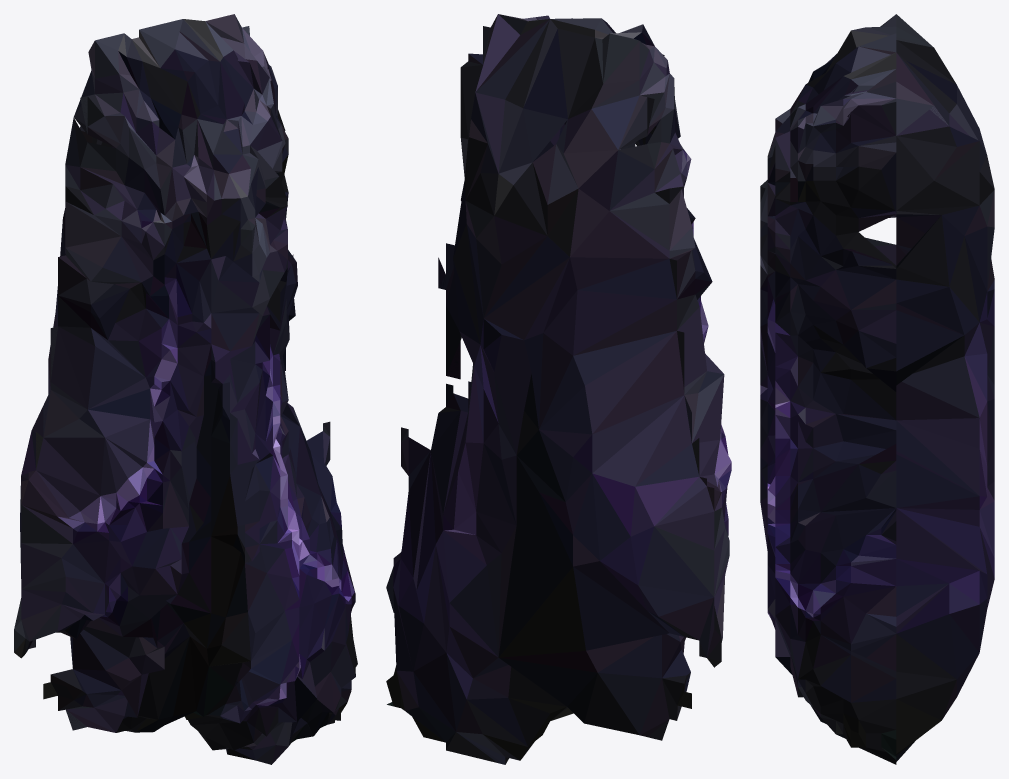
Rendered from B11_3_voidwoven_robe_skirt.obj.
The picture shows the model from 3 angles, left to right: view 1: azimuth 30°, elevation 25°; view 2: azimuth 150°, elevation 25°; view 3: azimuth 270°, elevation 25°; orthographic projection. The views are drawn at different scales.
Parts seen in each view (by area): view 1: B11_3_voidwoven_robe_skirt; view 2: B11_3_voidwoven_robe_skirt; view 3: B11_3_voidwoven_robe_skirt.
Boxes of the visible parts, x1,y1,x2,y2 form: B11_3_voidwoven_robe_skirt: [14, 14, 357, 764]; B11_3_voidwoven_robe_skirt: [386, 14, 731, 764]; B11_3_voidwoven_robe_skirt: [760, 14, 994, 764].
Bounding box in the file's own units: 45 × 97 × 31.
